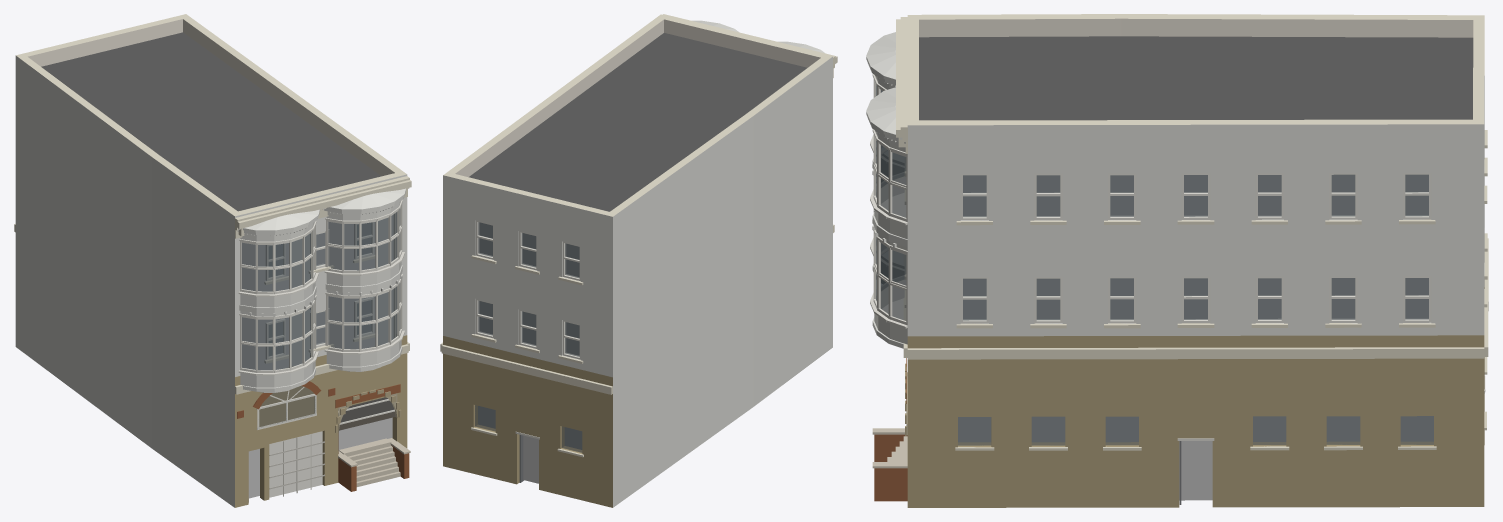
Rendered from exterior.glb.
The picture shows the model from 3 angles, left to right: view 1: azimuth 30°, elevation 25°; view 2: azimuth 150°, elevation 25°; view 3: azimuth 270°, elevation 25°; orthographic projection. The views are drawn at different scales.
Parts seen in each view (by area): view 1: shell, roof, bay-glazing-hyb, shadow-proxy, bay-windows-hyb, hand-ornament, trim, storefront, relief-0, glazing, frames, front-dressing-r4 (+1 smaller); view 2: shell, roof, shadow-proxy, glazing, trim, frames; view 3: shell, roof, glazing, shadow-proxy, trim, frames, bay-windows-hyb, bay-glazing-hyb, hand-ornament.
Part boxes in pixels (x1,y1,x2,y2): shell: (15,14,407,507); roof: (41,32,381,211); bay-glazing-hyb: (238,200,404,375); shadow-proxy: (242,215,393,498); bay-windows-hyb: (237,188,405,392); hand-ornament: (253,381,410,491); trim: (14,176,411,394); storefront: (248,399,394,502); relief-0: (237,384,400,496); glazing: (269,223,393,422); frames: (266,222,373,359); front-dressing-r4: (339,397,395,430); shell: (443,14,832,507); roof: (469,33,807,211); shadow-proxy: (478,222,581,483); glazing: (475,222,582,452); trim: (440,14,837,457); frames: (475,220,580,359); shell: (907,14,1484,507); roof: (919,36,1473,120); glazing: (958,174,1433,445); shadow-proxy: (958,175,1433,500); trim: (896,17,1488,450); frames: (960,173,1431,323); bay-windows-hyb: (866,32,907,348); bay-glazing-hyb: (870,74,907,328); hand-ornament: (872,428,907,501).
Bounding box in the file's own units: 7.99 × 12.62 × 18.61.
